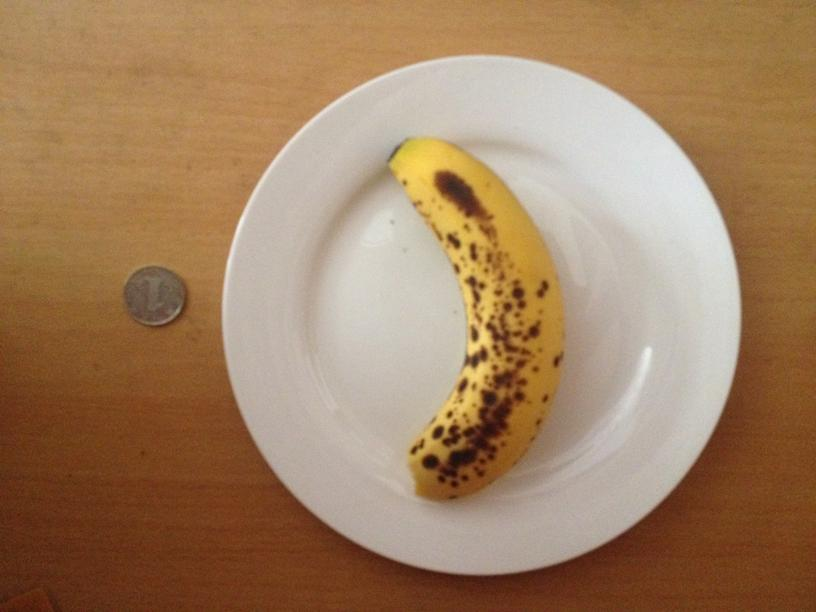banana: (391, 141, 564, 499)
coin: (121, 264, 189, 326)
